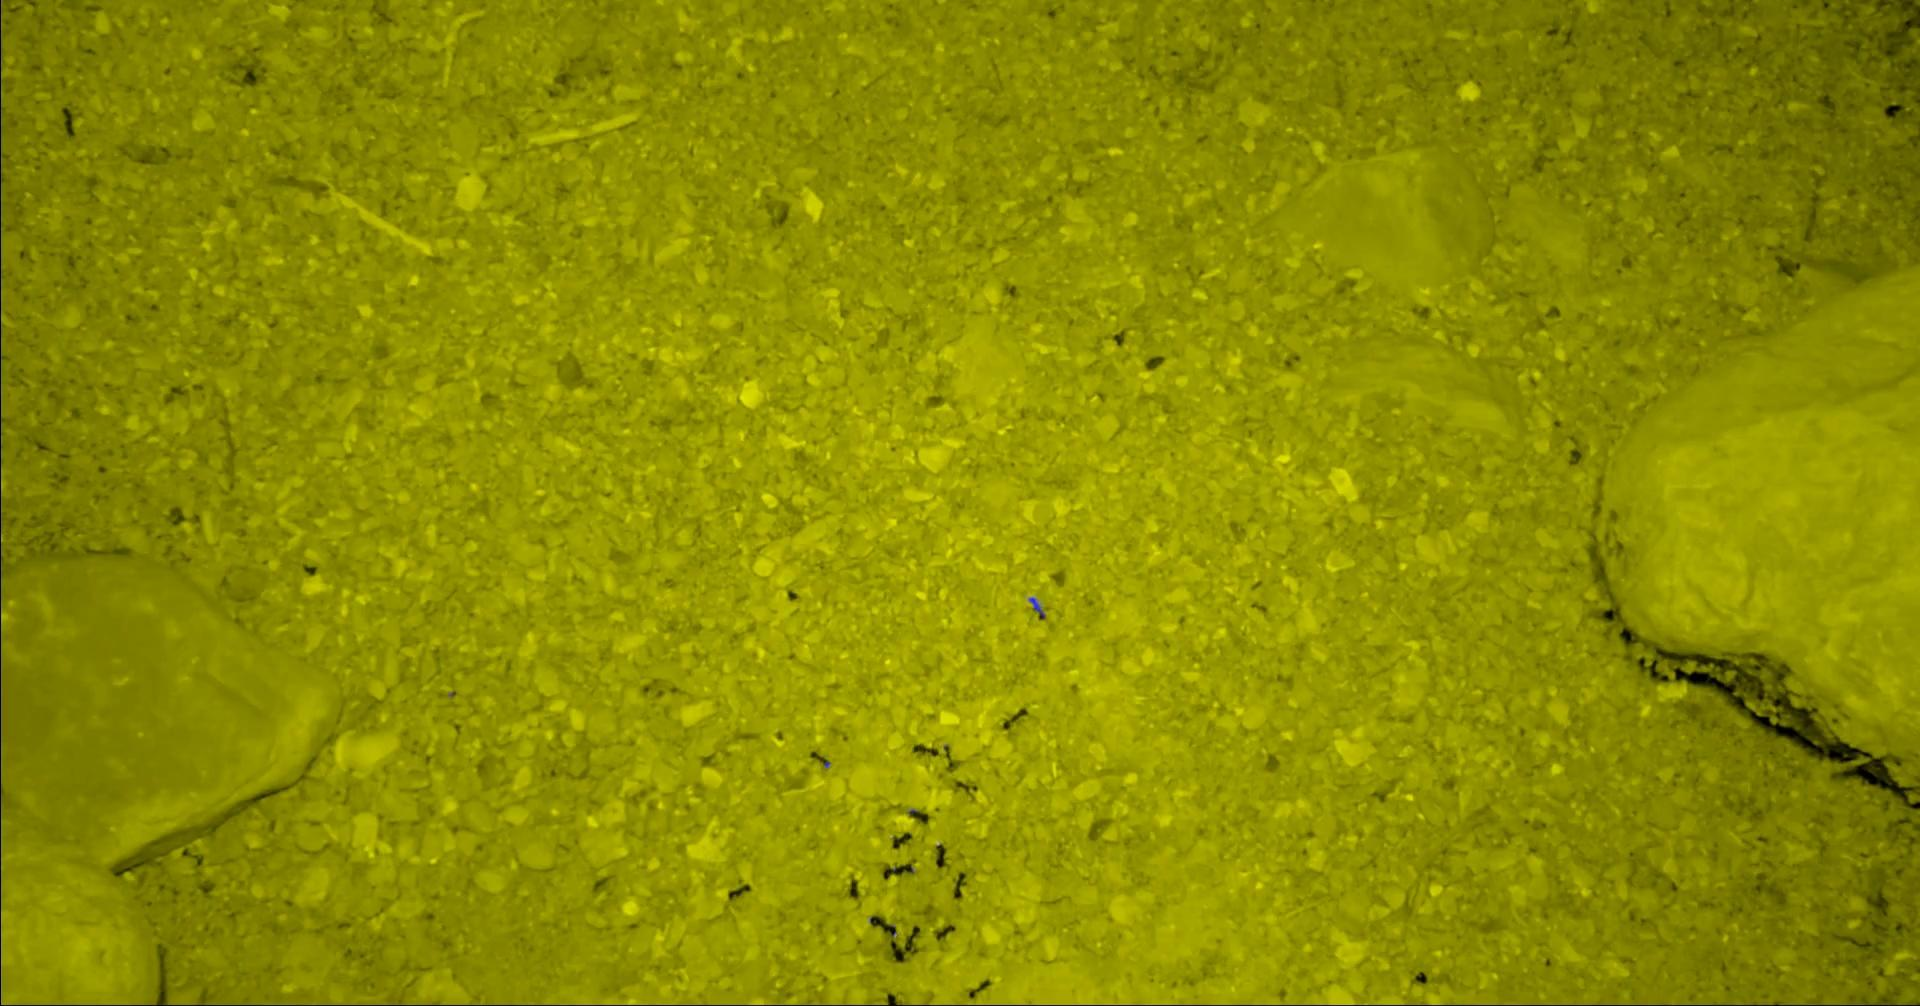ant: (1029, 597, 1044, 619)
